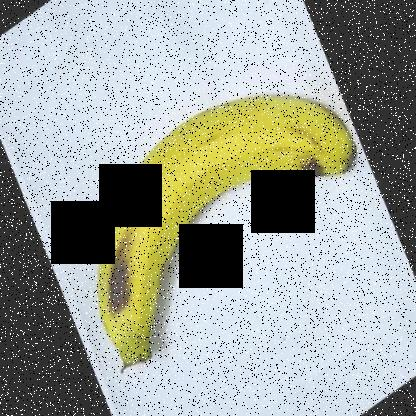freshripe: (88, 92, 370, 380)
